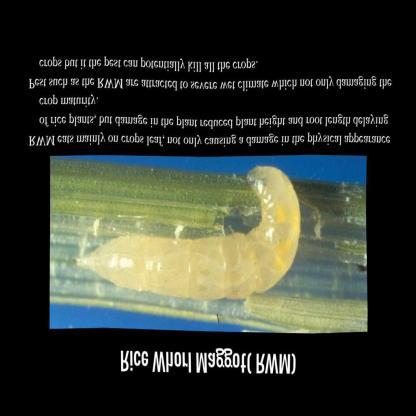whorl-maggot: (71, 161, 306, 310)
